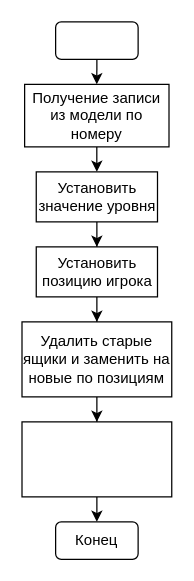
The diagram is 194 pixels wide and 581 high, and some of its shapes have lost their labels. Each missing label, with the box of its shape:
Начало: (54, 21, 138, 59)
Установить загруженное состояние игры текущим: (21, 421, 172, 497)
